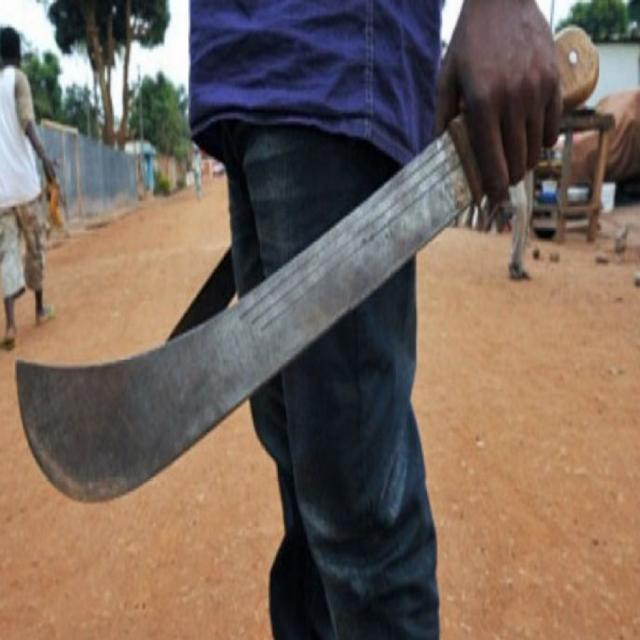machete: (21, 19, 606, 514)
